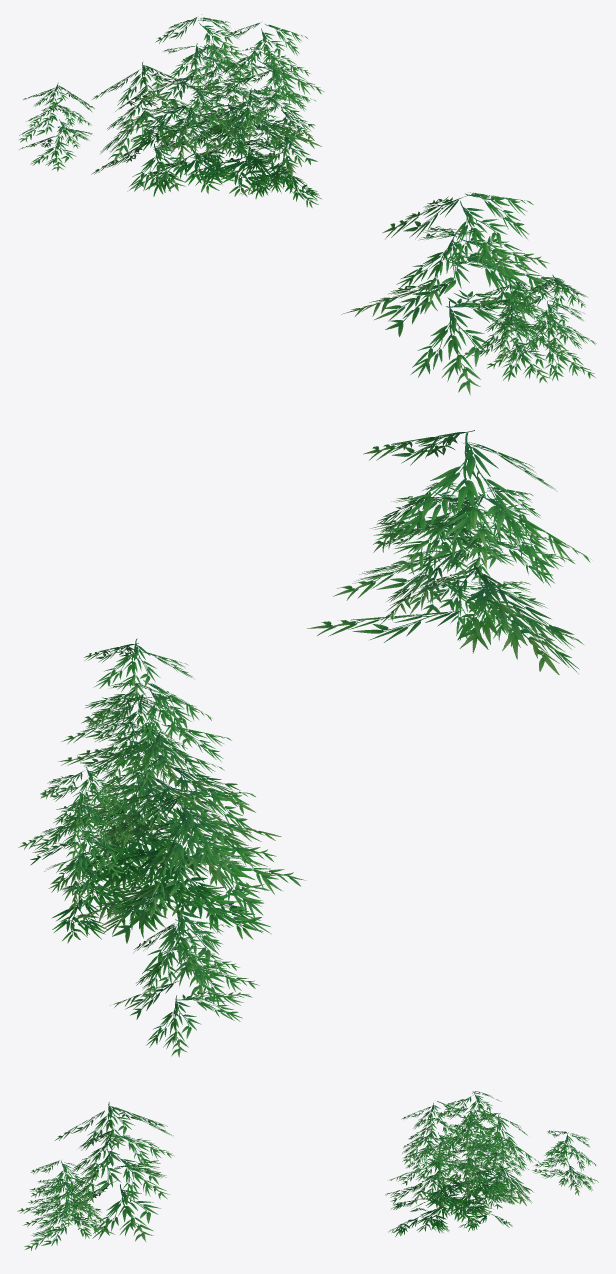
File: Area_12_61.fbx
3 renders of one model, top to bottom at view 1: azimuth 30°, elevation 25°; view 2: azimuth 150°, elevation 25°; view 3: azimuth 270°, elevation 25°, orthographic. The views are drawn at different scales.
Parts seen in each view (by area): view 1: Area_12_61; view 2: Area_12_61; view 3: Area_12_61.
Boxes of the visible parts, bbox=[...] form: Area_12_61: bbox=[19, 17, 596, 395]; Area_12_61: bbox=[18, 430, 590, 1057]; Area_12_61: bbox=[17, 1091, 598, 1250].
Bounding box in the file's own units: 1915 × 1289 × 5076.
